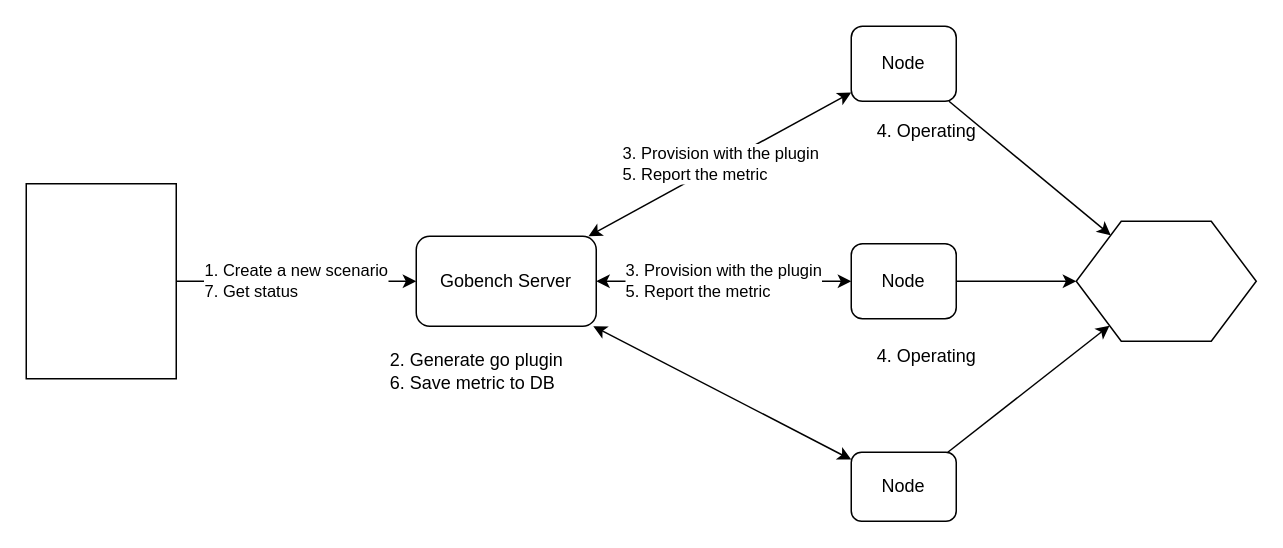
Image size: 1283x548. Some labels were removed from this diagram. The shapes that lost their labels are listed below. From the top down, each one's centre as x and y in pixels, then its label:
At point (100, 280): "CLI Web UI (HTTP)".
At point (1165, 280): "Target".
